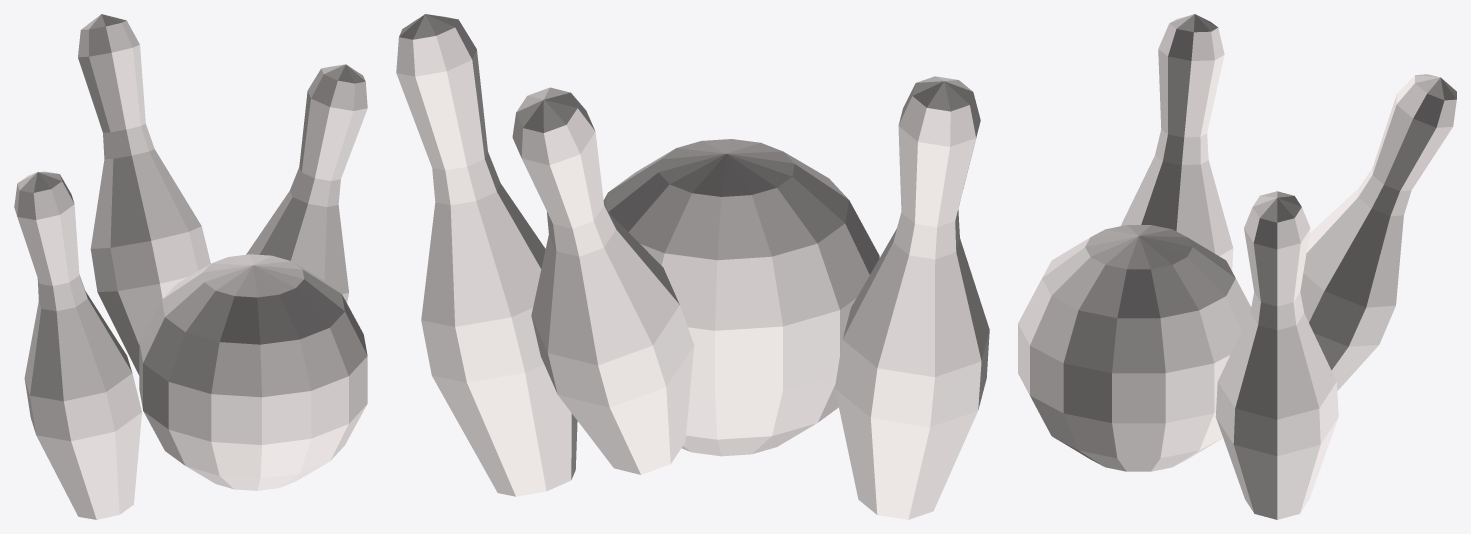
Rendered from static.ico.obj.
The picture shows the model from 3 angles, left to right: view 1: azimuth 30°, elevation 25°; view 2: azimuth 150°, elevation 25°; view 3: azimuth 270°, elevation 25°; orthographic projection. The views are drawn at different scales.
Size of the model in its own units: 4.47 by 4.07 by 4.18.
